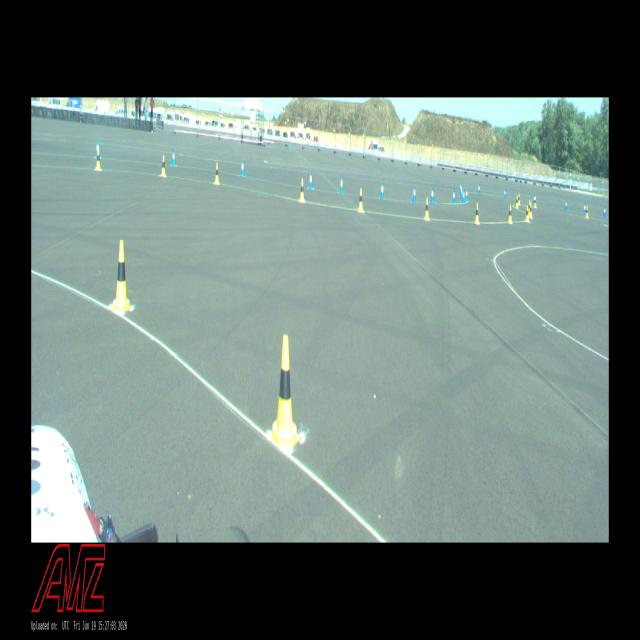blue_cone: (339, 175, 344, 194), (380, 181, 384, 199), (241, 158, 245, 176), (309, 171, 313, 189), (412, 185, 416, 202), (172, 149, 176, 166), (430, 187, 434, 203), (452, 188, 456, 204), (96, 140, 99, 158), (465, 188, 468, 202), (462, 189, 465, 203), (460, 186, 462, 198), (584, 203, 586, 214), (504, 188, 506, 199), (533, 194, 535, 205), (565, 200, 567, 210), (478, 184, 480, 194), (604, 207, 606, 217), (460, 183, 461, 193)
yellow_cone: (268, 335, 301, 450), (110, 240, 131, 311), (160, 155, 167, 178), (299, 178, 305, 203), (358, 188, 364, 212), (95, 150, 102, 170), (474, 203, 480, 224), (214, 163, 220, 184), (424, 197, 429, 220), (508, 204, 512, 223), (525, 205, 529, 222), (528, 202, 532, 218), (518, 193, 521, 206), (534, 196, 537, 208), (516, 196, 518, 208), (586, 206, 588, 218), (529, 200, 530, 214)
